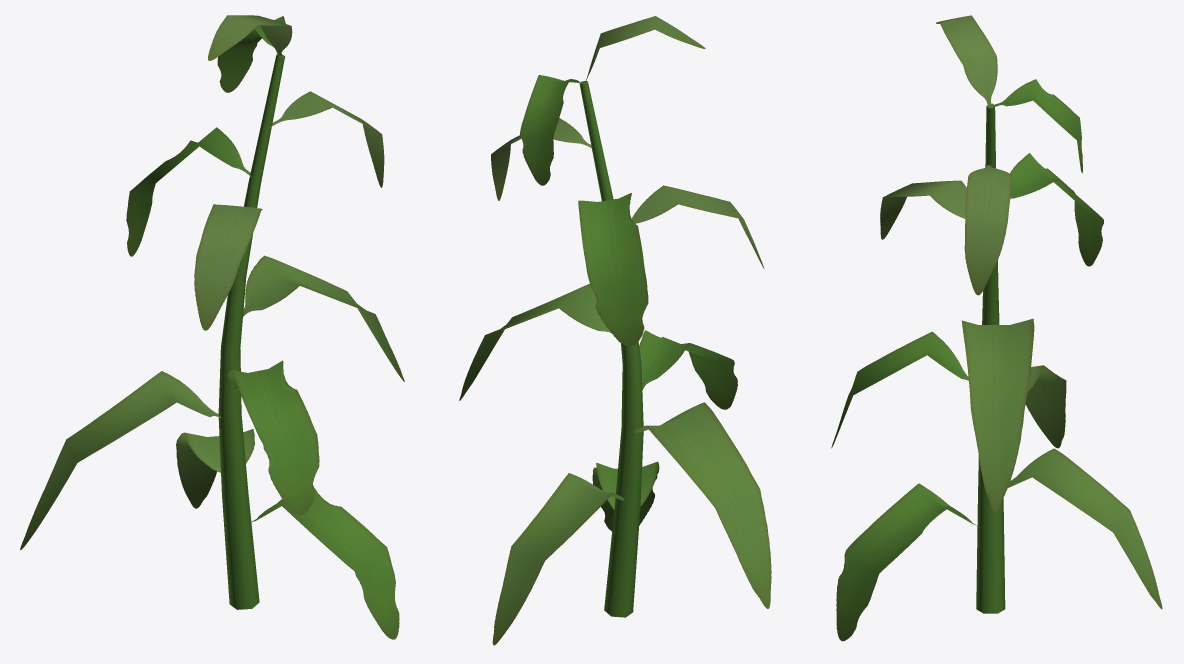
File: Plant03.glb
3 renders of one model, left to right at view 1: azimuth 30°, elevation 25°; view 2: azimuth 150°, elevation 25°; view 3: azimuth 270°, elevation 25°, orthographic. The views are drawn at different scales.
Visible parts, largest first — view 1: plant03; view 2: plant03; view 3: plant03.
Part boxes in pixels (x1,y1,x2,y2): plant03: [20, 15, 404, 639]; plant03: [459, 16, 771, 645]; plant03: [831, 15, 1162, 641].
Bounding box in the file's own units: 0.8489 × 1.36 × 0.7488.
Materials: 1 (1 with a texture image).
